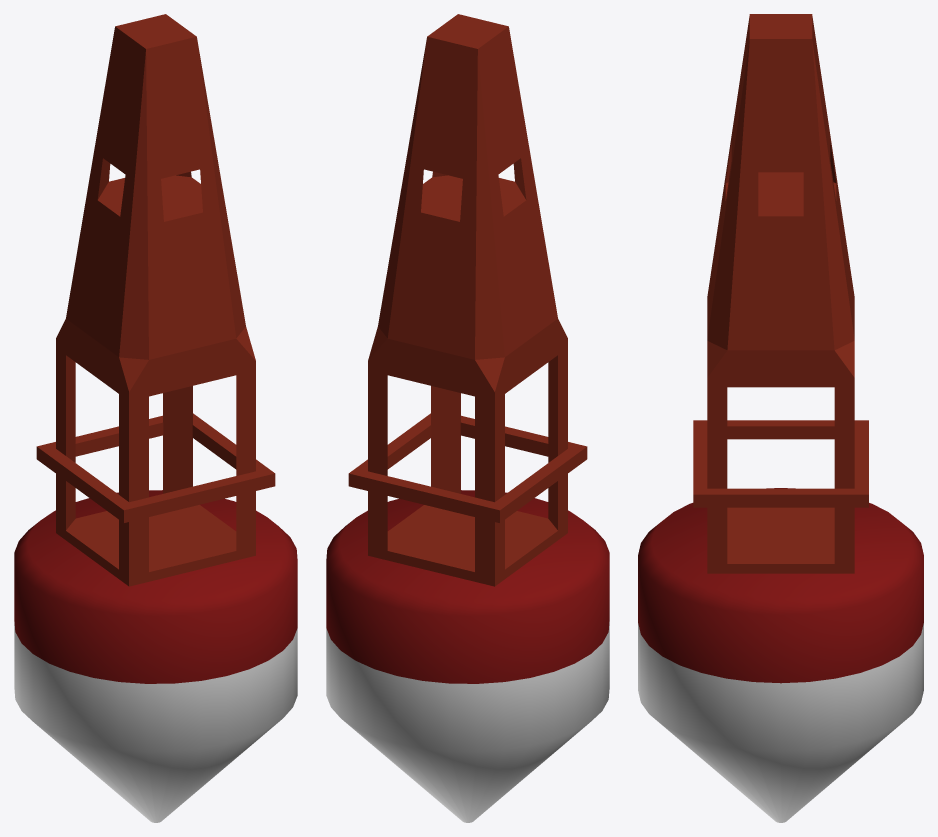
File: Buoy.fbx
The picture shows the model from 3 angles, left to right: view 1: azimuth 30°, elevation 25°; view 2: azimuth 150°, elevation 25°; view 3: azimuth 270°, elevation 25°; orthographic projection.
Parts seen in each view (by area): view 1: Buoy; view 2: Buoy; view 3: Buoy.
Part boxes in pixels (x1,y1,x2,y2): Buoy: (14, 14, 297, 822); Buoy: (326, 14, 609, 822); Buoy: (638, 14, 923, 822).
Bounding box in the file's own units: 200 × 613 × 200.
